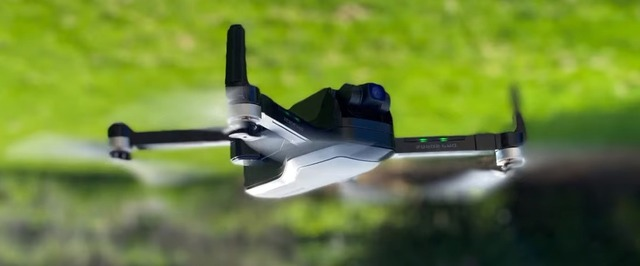drone: (105, 25, 525, 198)
